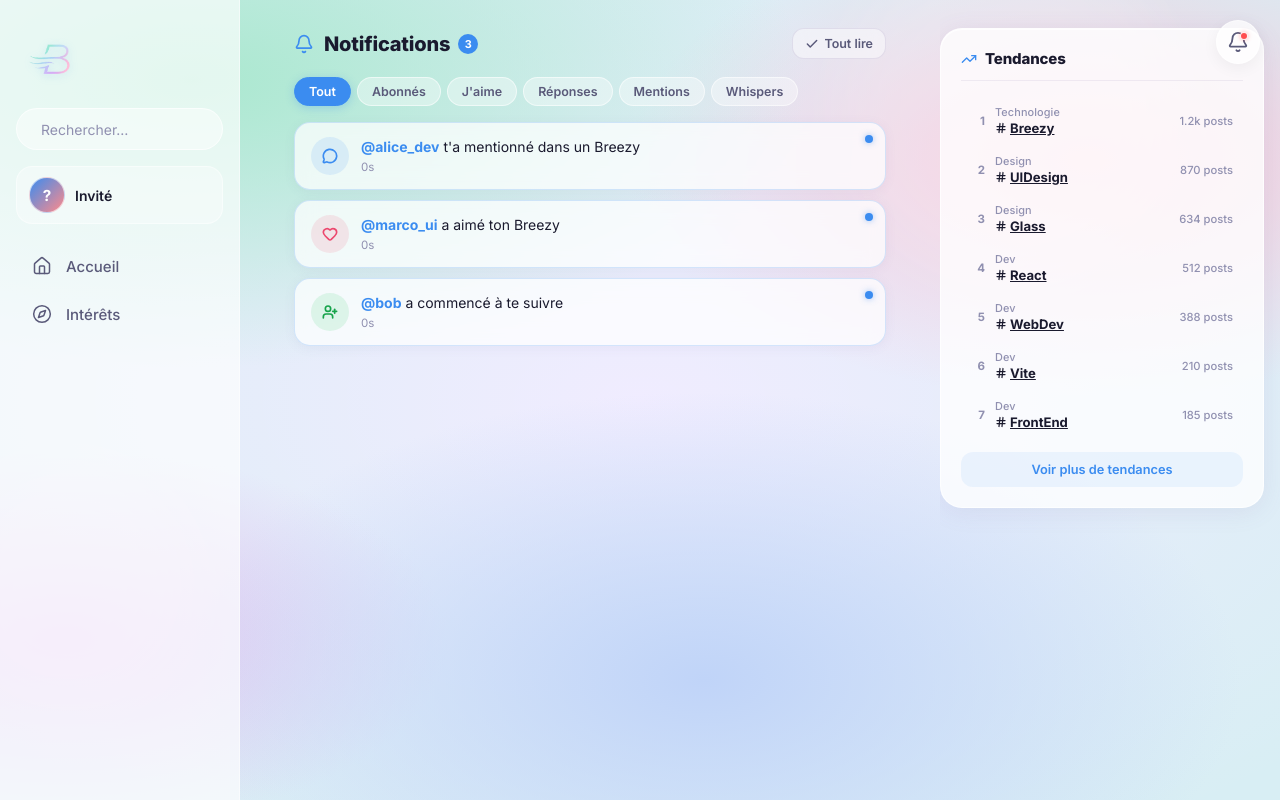
Test case: NotificationsPage › permet de filtrer les notifications par type
Expected: the text "@alice_dev" is shown, [361, 138, 440, 155]
Note: Cliquer sur le filtre "Mentions"
Click the button "Mentions" at (662, 92), box [619, 77, 705, 106]
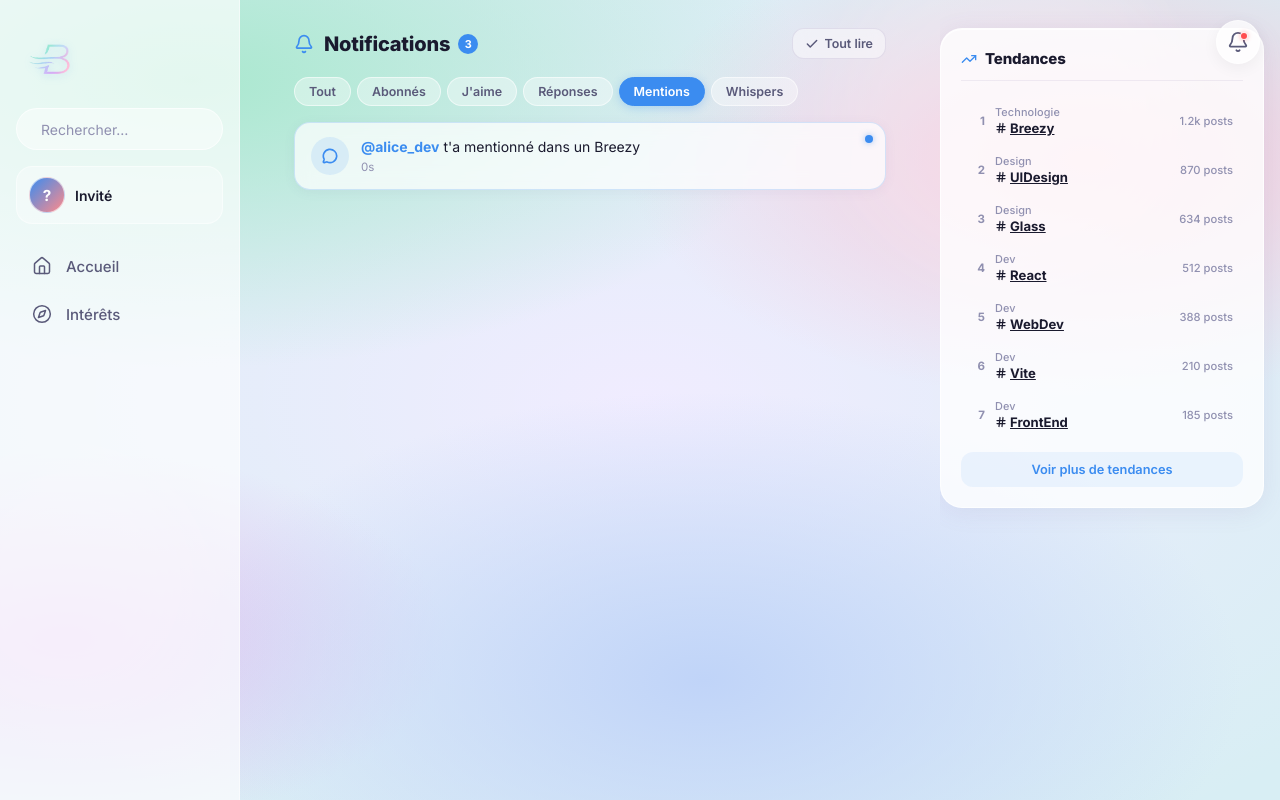
Expected: the text "@alice_dev" is shown, [361, 138, 440, 155]
Now the link "marco_ui" is gone
Note: Cliquer sur le filtre "J'aime"
Click the button "J'aime" at (482, 92), box [447, 77, 517, 106]
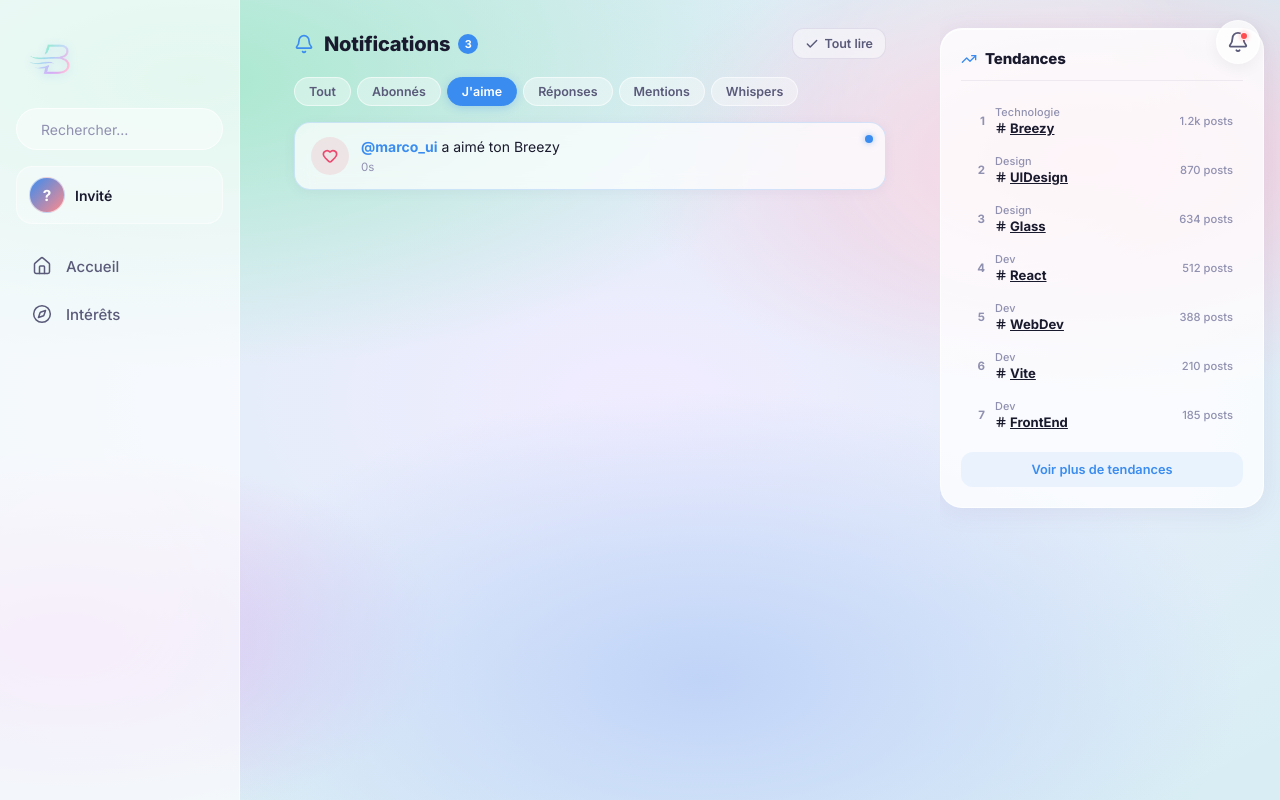
Now the link "alice_dev" is gone
Now the text "@marco_ui" is shown, box [361, 138, 438, 155]
